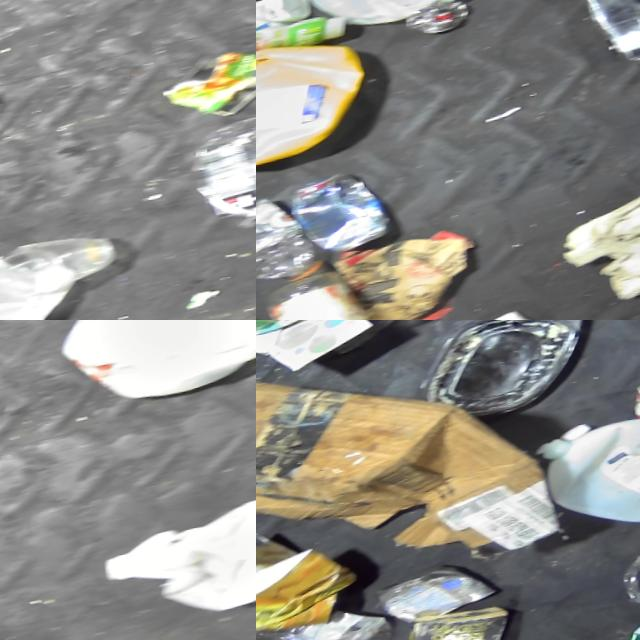can: (285, 169, 391, 270), (378, 561, 511, 639), (158, 42, 256, 130), (256, 523, 315, 624)
milk_jug: (96, 493, 256, 640), (52, 320, 256, 428), (524, 396, 640, 565)
non_white_jug: (256, 32, 374, 199), (293, 0, 493, 45)
plastic_bottle: (256, 188, 333, 308), (193, 109, 256, 247), (256, 582, 403, 640), (574, 0, 640, 105)
